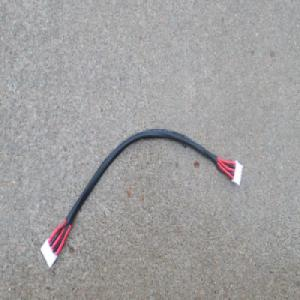Wire: (39, 126, 243, 270)
